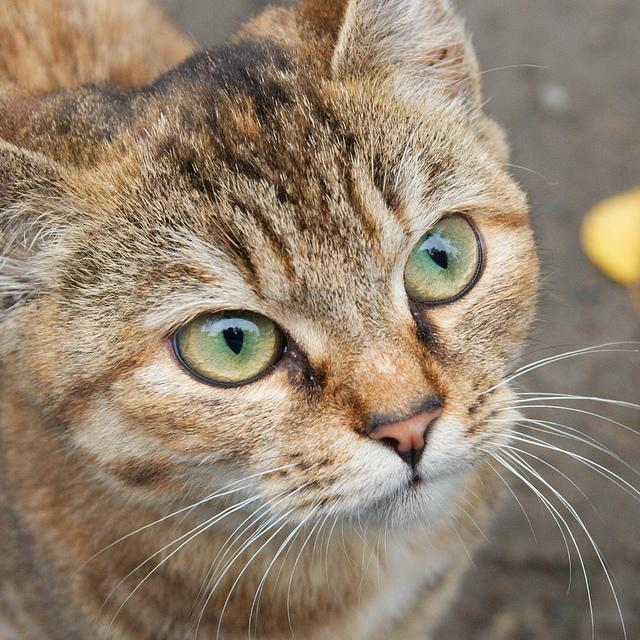animals: (0, 0, 475, 457)
